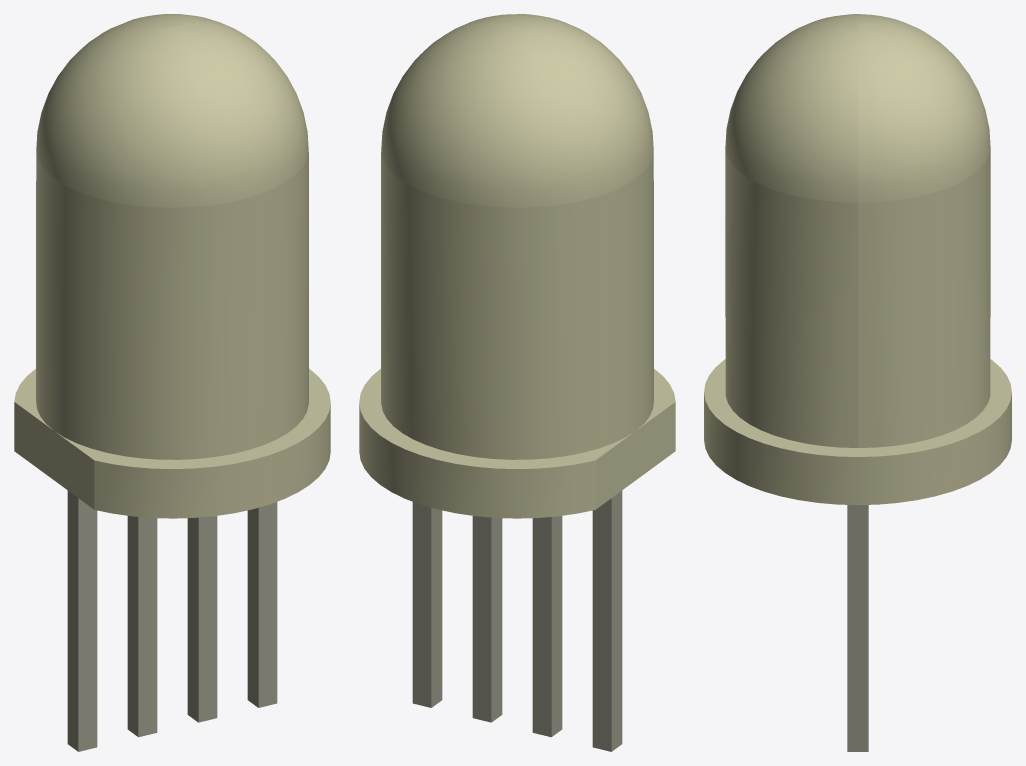
File: led-rgb.glb
The picture shows the model from 3 angles, left to right: view 1: azimuth 30°, elevation 25°; view 2: azimuth 150°, elevation 25°; view 3: azimuth 270°, elevation 25°; orthographic projection. The views are drawn at different scales.
Visible parts, largest first — view 1: LED_D5.0mm-4; view 2: LED_D5.0mm-4; view 3: LED_D5.0mm-4.
Part boxes in pixels (x1,y1,x2,y2): LED_D5.0mm-4: (14, 14, 330, 751); LED_D5.0mm-4: (359, 14, 675, 751); LED_D5.0mm-4: (704, 14, 1011, 751).
Bounding box in the file's own units: 5.4 × 14.1 × 5.8.
